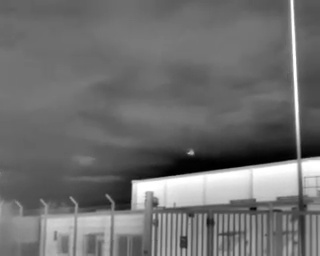HELICOPTER: (184, 145, 200, 160)
